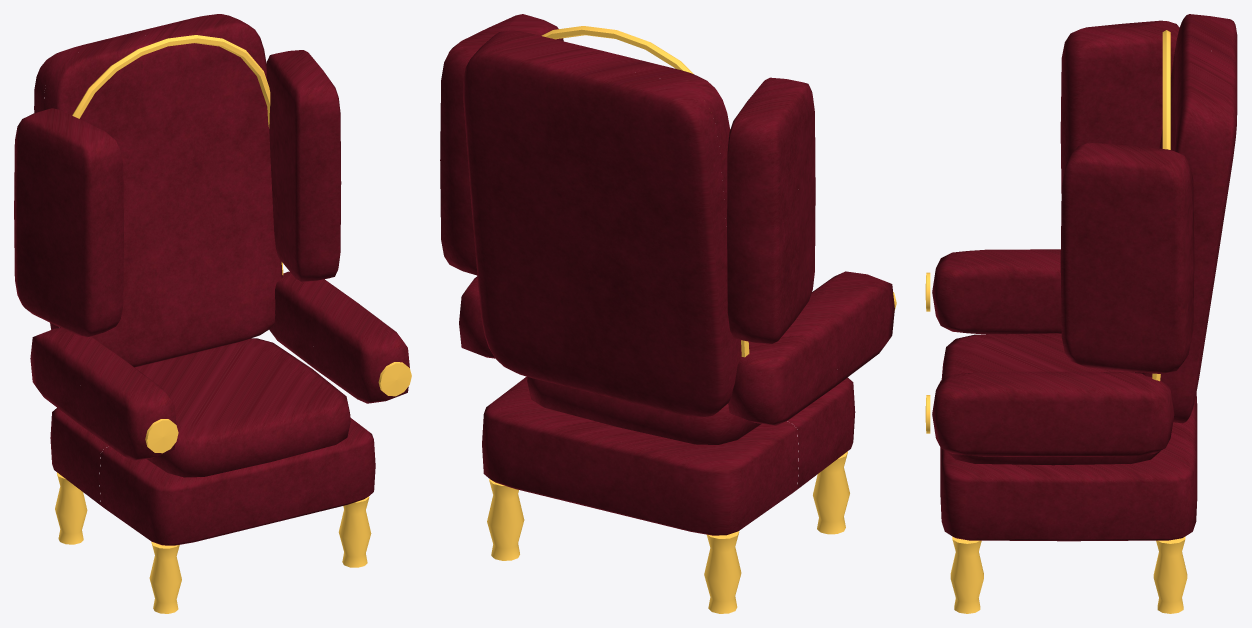
Rendered from lb4_chair.glb.
The picture shows the model from 3 angles, left to right: view 1: azimuth 30°, elevation 25°; view 2: azimuth 150°, elevation 25°; view 3: azimuth 270°, elevation 25°; orthographic projection. The views are drawn at different scales.
Visible parts, largest first — view 1: lb4_chair; view 2: lb4_chair; view 3: lb4_chair.
Boxes of the visible parts, x1,y1,x2,y2 form: lb4_chair: (14,14,411,613); lb4_chair: (440,14,896,613); lb4_chair: (925,14,1237,613).
Size of the model in its own units: 0.9286 by 1.45 by 0.7984.
Materials: 2 (1 with a texture image).
